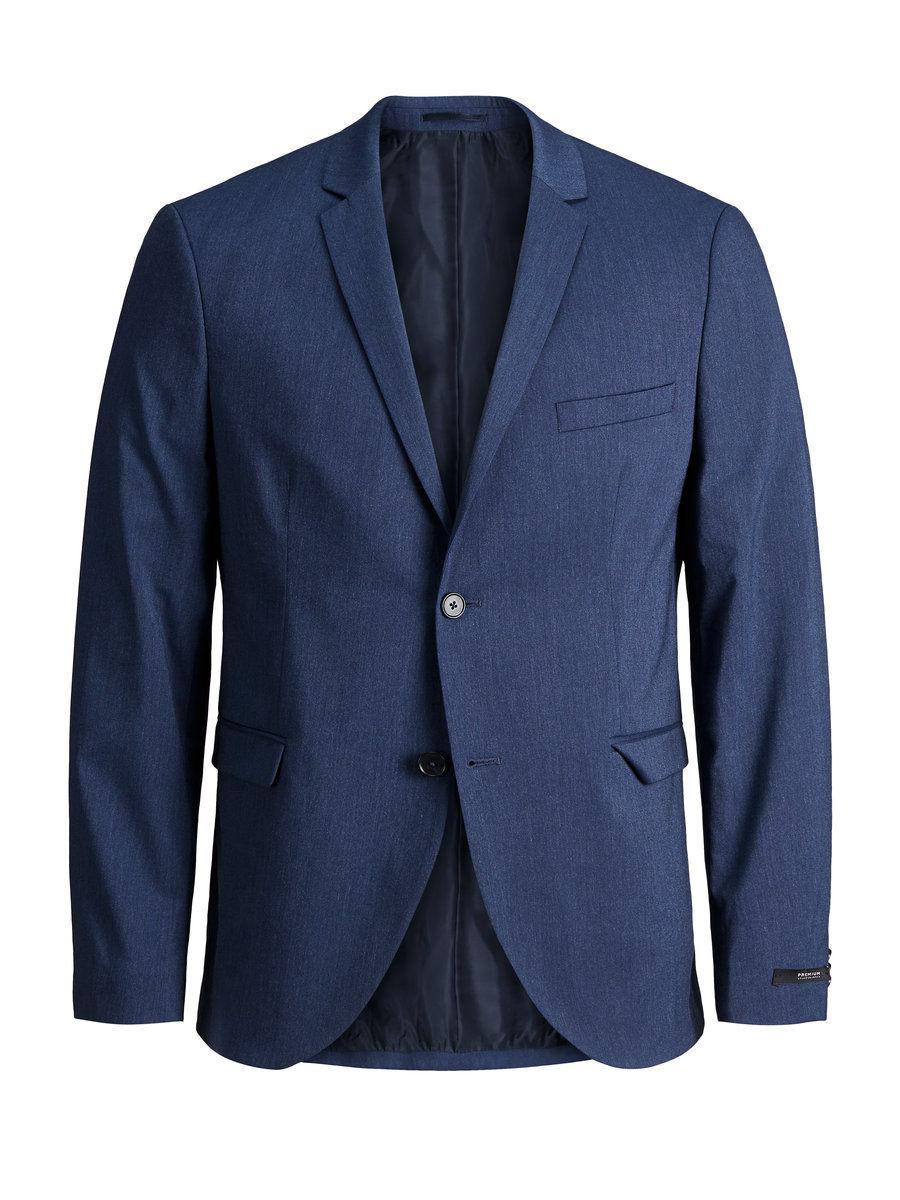teeshirt: (60, 83, 840, 1093)
